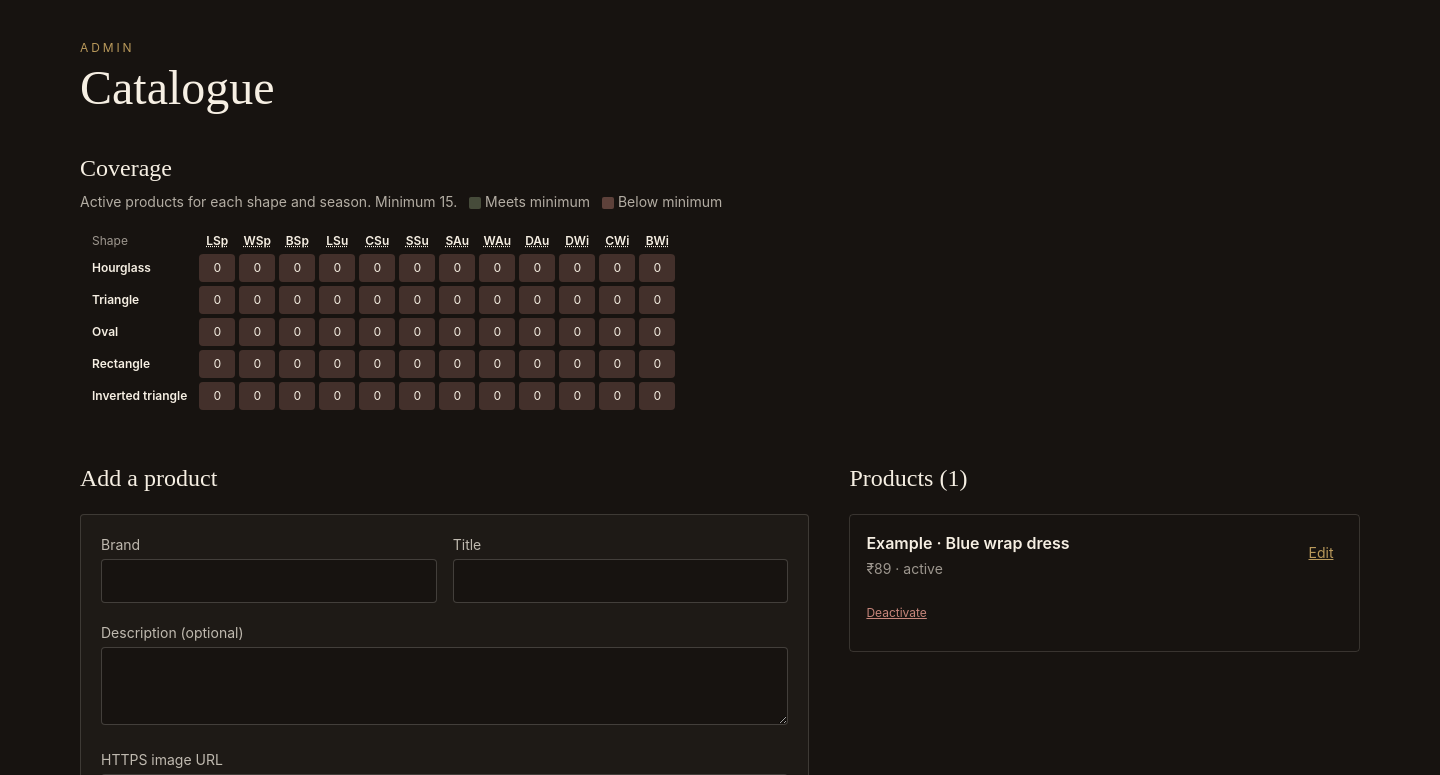
Scenario: catalogue admin interactions › shows a retryable error when deactivation cannot reach the API
The width and height of the screenshot is (1440, 775).
Click the button "Deactivate": (897, 613) 866,591 -> 927,635
(page scrolled)
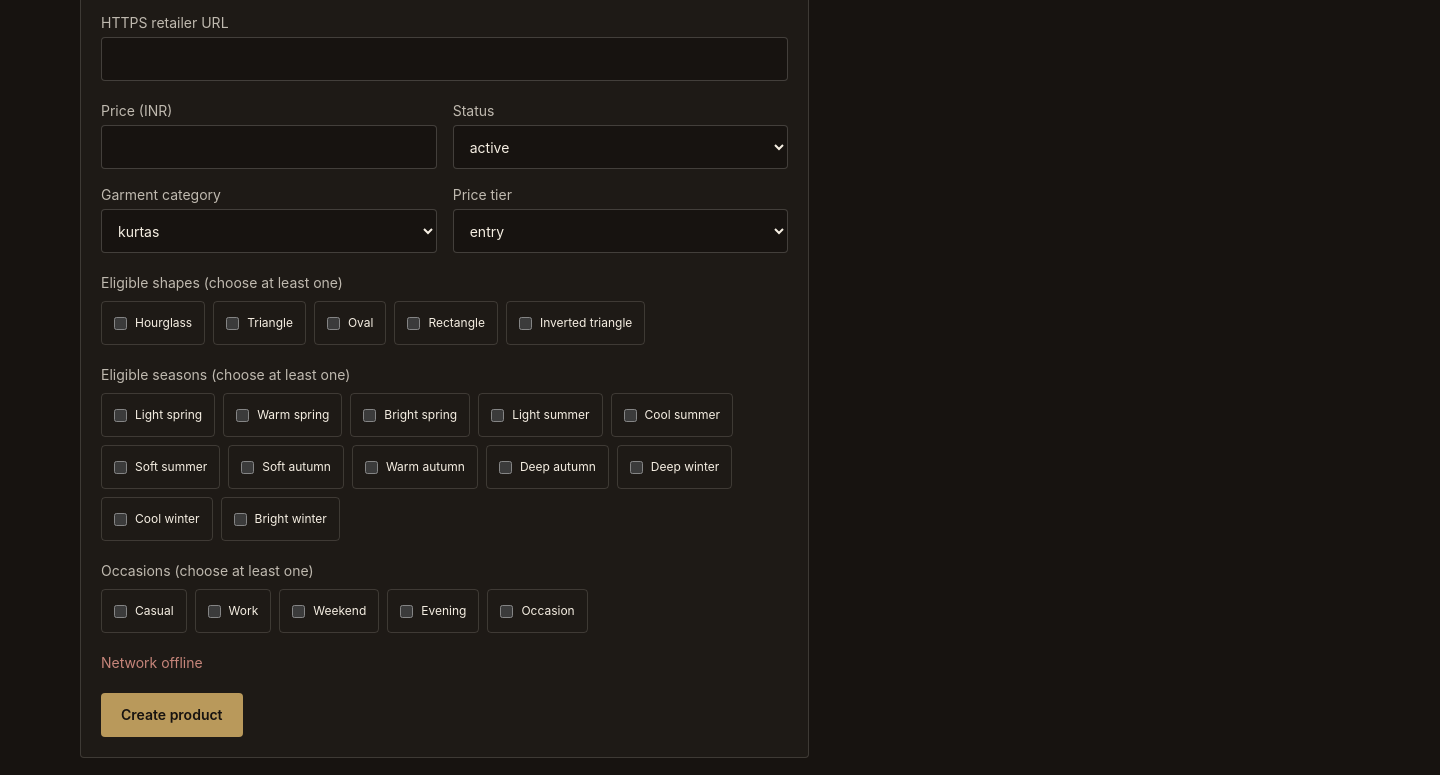
Expected: the message reads "Network offline", 101,654 -> 203,671
